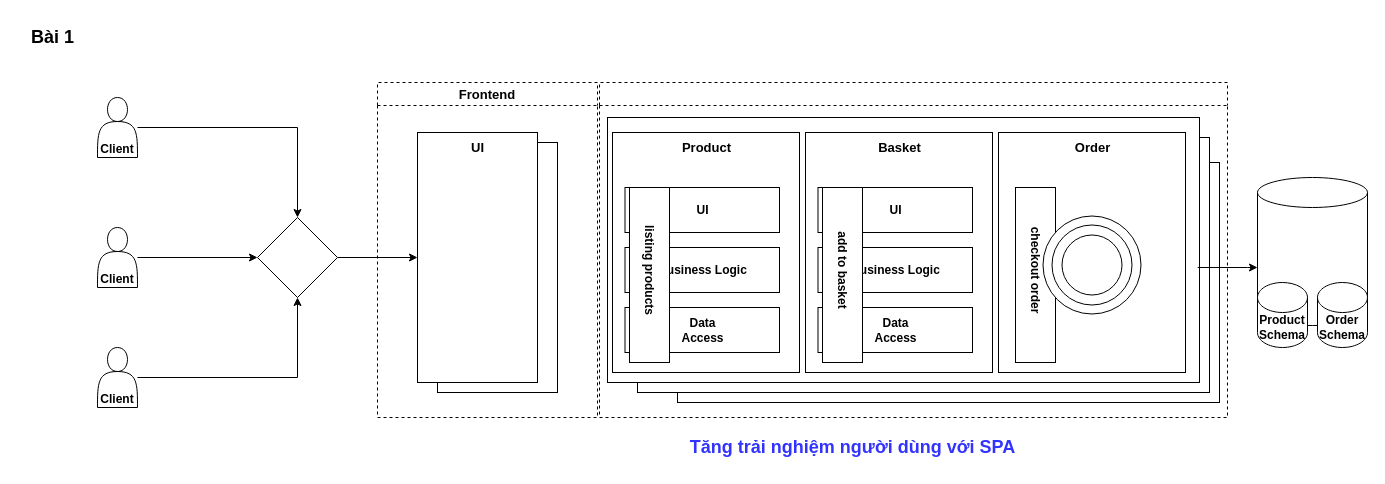
This 1385x484 diagram has some shape labels left out. Each missing label, with the box of its shape:
Backend: (598, 82, 1228, 418)
Clean Architecture: (1061, 234, 1122, 295)
Load Balancer: (256, 216, 338, 298)
RDBMS: (1256, 176, 1368, 326)
SPA: (416, 132, 538, 382)
